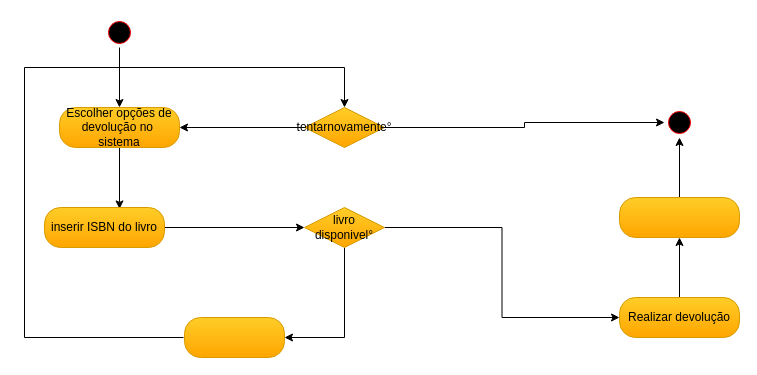
Image size: 757x375. Some labels were removed from this diagram. Here are the shapes that lost their labels. From the top down, the centre of each, then its label:
At pixel 679 217: "Gravar historico de devolução".
At pixel 234 337: "retornar mensagem".
